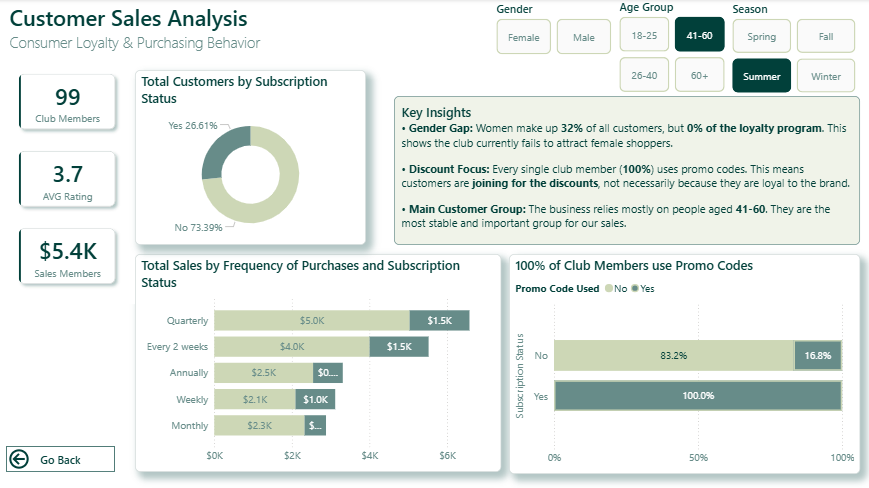

What the dashboard file says about the page in this screenshot:
{"tool":"powerbi","page":{"name":"Consumer Loyalty & Purchasing Behavior","canvas":[1280,720],"ordinal":1},"visuals":[{"type":"textbox","box":[10.1,0,393.1,80.6],"z":0},{"type":"barChart","fields":{"Category":["shopping_behavior_cleaned.Frequency of Purchases"],"Y":["_Measures .Total Sales"],"Series":["shopping_behavior_cleaned.Subscription Status"]},"box":[199,373.2,535.6,319],"z":1000},{"type":"cardVisual","fields":{"Data":["_Measures .Club Members Count","Avg(shopping_behavior_cleaned.Review Rating)","_Measures .Sales Members"]},"box":[0,80.5,199,366],"z":2000},{"type":"donutChart","fields":{"Y":["_Measures .Total Customers"],"Category":["shopping_behavior_cleaned.Subscription Status"]},"box":[199,103.9,338,256.1],"z":3000},{"type":"hundredPercentStackedBarChart","title":"100% of Club Members use Promo Codes","fields":{"Category":["shopping_behavior_cleaned.Subscription Status"],"Y":["_Measures .Total Customers"],"Series":["shopping_behavior_cleaned.Promo Code Used"]},"box":[746.4,372.5,514.5,321.7],"z":4000},{"type":"advancedSlicerVisual","title":"Gender","fields":{"Values":["shopping_behavior_cleaned.Gender"]},"box":[722.9,3.4,179.4,83.7],"z":5000},{"type":"textbox","box":[578,142,682,218],"z":6000},{"type":"advancedSlicerVisual","title":"Age Group","fields":{"Values":["shopping_behavior_cleaned.Season"]},"box":[1068.5,2.9,191.5,139.7],"z":7000},{"type":"advancedSlicerVisual","title":"Age Group","fields":{"Values":["shopping_behavior_cleaned.Age Group"]},"box":[902.9,0,165.6,142.6],"z":8000},{"type":"actionButton","box":[10.2,654.1,159.5,38],"z":9000}]}

Visuals, with their boxes in screenshot pixels (x1, y1, x2, y2), scaled from the page's 1280x720 canvas onto the 869x488 screenshot:
textbox: Rect(7, 0, 274, 55)
barChart - shopping_behavior_cleaned.Frequency of Purchases x _Measures .Total Sales: Rect(135, 253, 499, 469)
cardVisual - _Measures .Club Members Count x Avg(shopping_behavior_cleaned.Review Rating): Rect(0, 55, 135, 303)
donutChart - _Measures .Total Customers x shopping_behavior_cleaned.Subscription Status: Rect(135, 70, 365, 244)
"100% of Club Members use Promo Codes" hundredPercentStackedBarChart: Rect(507, 252, 856, 471)
"Gender" advancedSlicerVisual: Rect(491, 2, 613, 59)
textbox: Rect(392, 96, 855, 244)
"Age Group" advancedSlicerVisual: Rect(725, 2, 855, 97)
"Age Group" advancedSlicerVisual: Rect(613, 0, 725, 97)
actionButton: Rect(7, 443, 115, 469)
